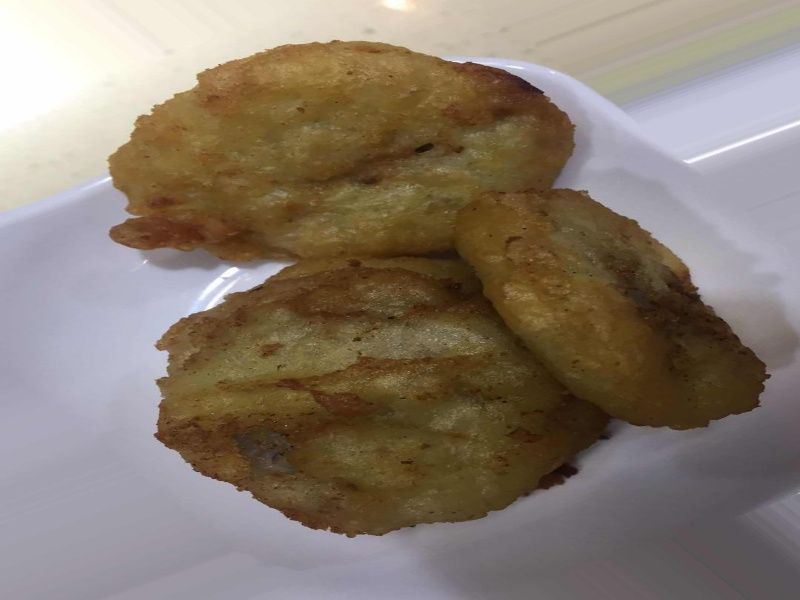patato: (94, 23, 774, 542)
